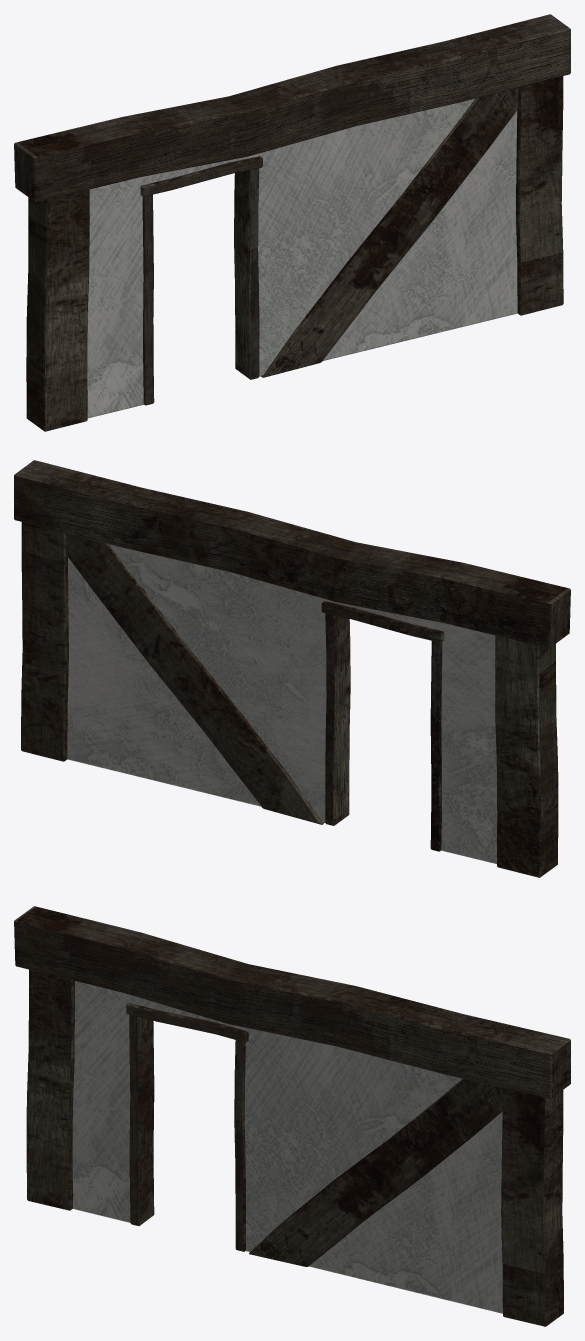
File: TudorDoorWall3.fbx
3 renders of one model, top to bottom at view 1: azimuth 30°, elevation 25°; view 2: azimuth 150°, elevation 25°; view 3: azimuth 330°, elevation 25°, orthographic.
Parts seen in each view (by area): view 1: White Wall Door 4m Angle Beam; view 2: White Wall Door 4m Angle Beam; view 3: White Wall Door 4m Angle Beam.
Boxes of the visible parts, x1,y1,x2,y2 form: White Wall Door 4m Angle Beam: [14, 14, 570, 431]; White Wall Door 4m Angle Beam: [14, 460, 570, 877]; White Wall Door 4m Angle Beam: [14, 906, 570, 1326].
Bounding box in the file's own units: 489 × 244 × 32.29.
